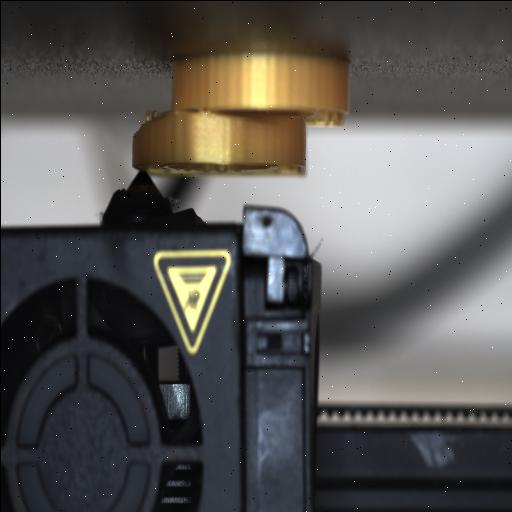layer_shift: (137, 102, 350, 130)
